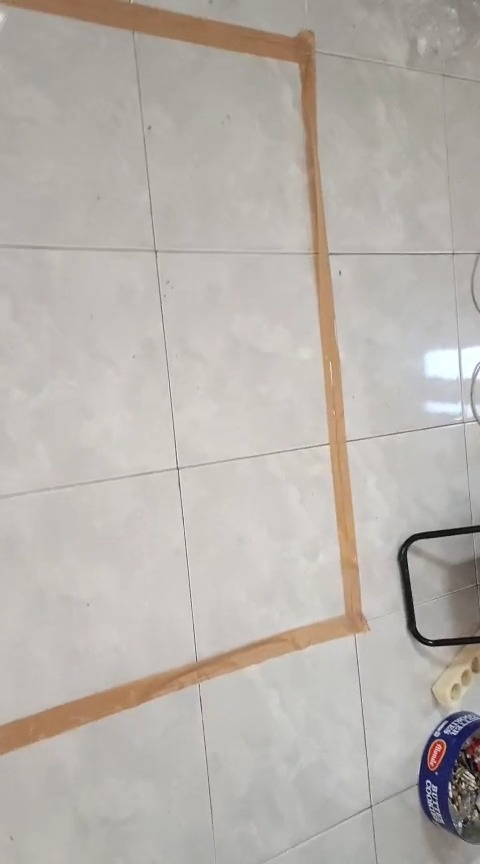floor marking: (0, 0, 367, 754)
